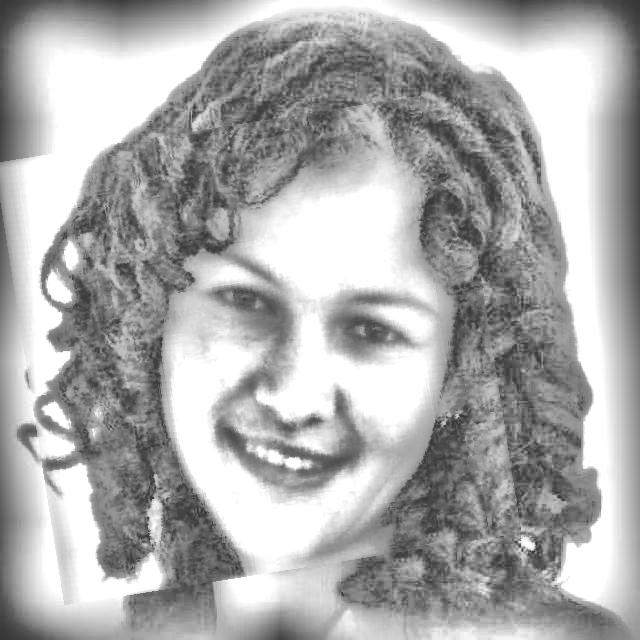happy: (10, 108, 505, 588)
